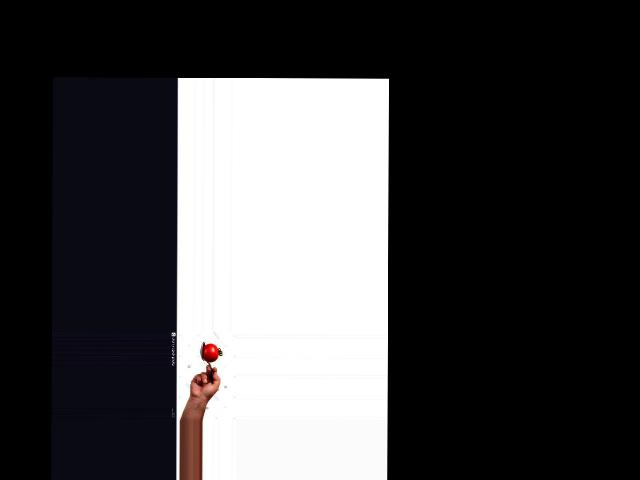tomato: (202, 344, 218, 362)
